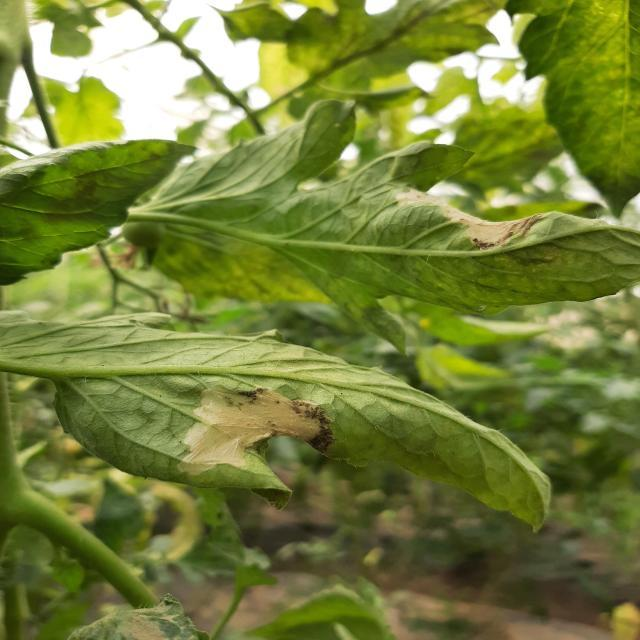Tuta absoluta: (163, 365, 335, 480), (440, 204, 543, 256), (396, 189, 444, 205)
